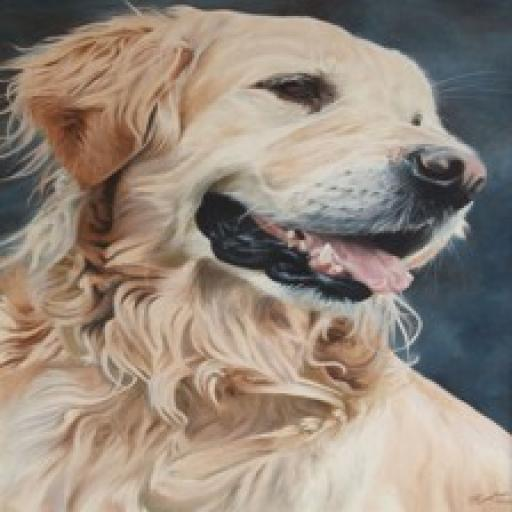dog: (0, 1, 493, 512)
